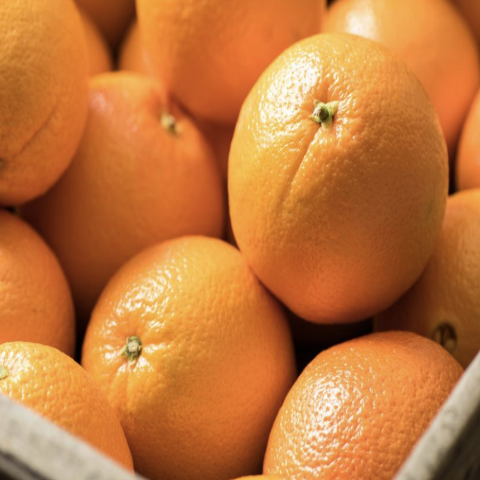orange: (215, 7, 456, 335), (66, 207, 307, 479)
